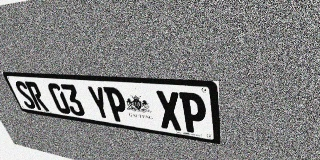0: (46, 83, 72, 115)
3: (60, 84, 86, 117)
P: (179, 92, 207, 135), (103, 87, 130, 123)
R: (24, 81, 49, 111)
S: (13, 81, 38, 110)
X: (155, 90, 183, 131)
Y: (86, 86, 113, 121)
